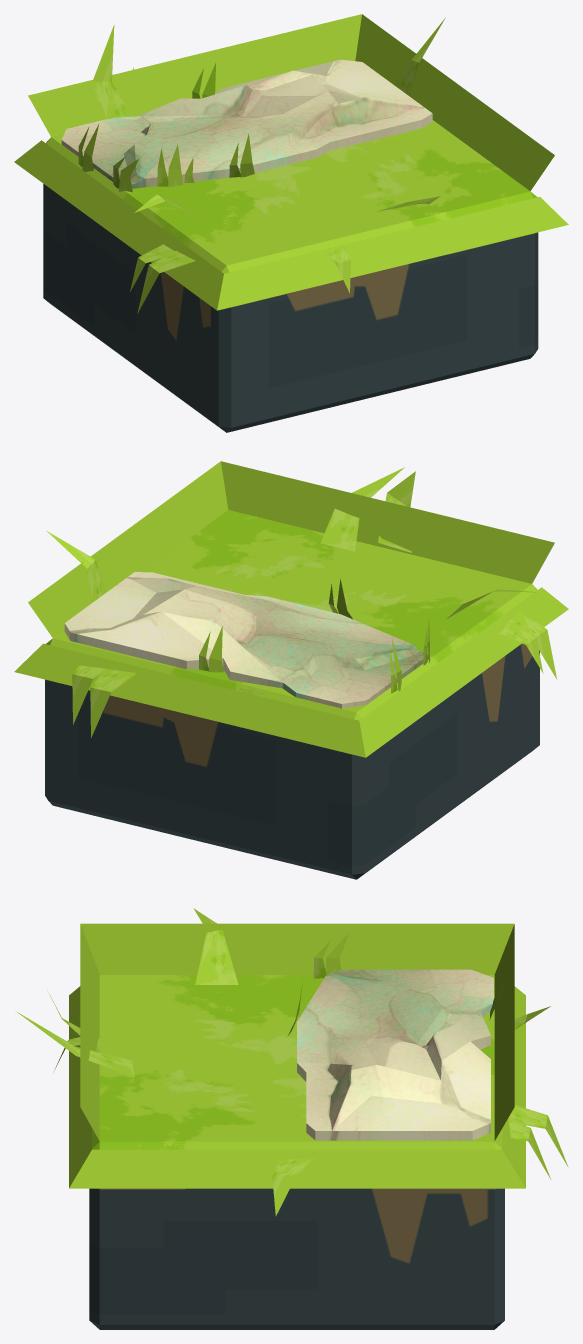
File: tile_grass_02.glb
3 views of the same model, one above another, from view 1: azimuth 30°, elevation 25°; view 2: azimuth 150°, elevation 25°; view 3: azimuth 270°, elevation 25° (orthographic). The views are drawn at different scales.
Parts seen in each view (by area): view 1: tile_grass_02; view 2: tile_grass_02; view 3: tile_grass_02.
Part boxes in pixels (x1=…): tile_grass_02: x1=14, y1=14, x2=568, y2=432; tile_grass_02: x1=14, y1=461, x2=568, y2=879; tile_grass_02: x1=16, y1=908, x2=568, y2=1329.
Size of the model in its own units: 1.29 by 0.7481 by 1.34.
Materials: 2 (2 with a texture image).
